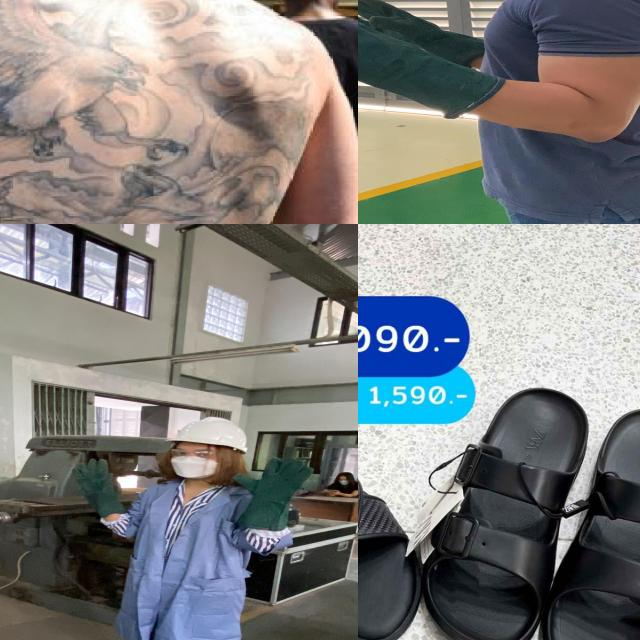Sandals: (432, 371, 640, 640), (358, 387, 454, 640)
face_mask: (162, 445, 224, 480)
glasses: (167, 447, 221, 460)
hand_glove: (227, 456, 322, 504), (358, 0, 451, 46), (358, 0, 398, 88), (70, 456, 124, 499)
head_helmet: (166, 416, 252, 455)
person: (0, 0, 345, 224), (62, 413, 319, 640), (383, 0, 640, 224)
